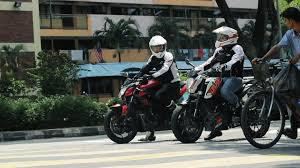Motorcycle: (167, 56, 273, 141), (101, 66, 211, 146), (237, 50, 300, 152)
